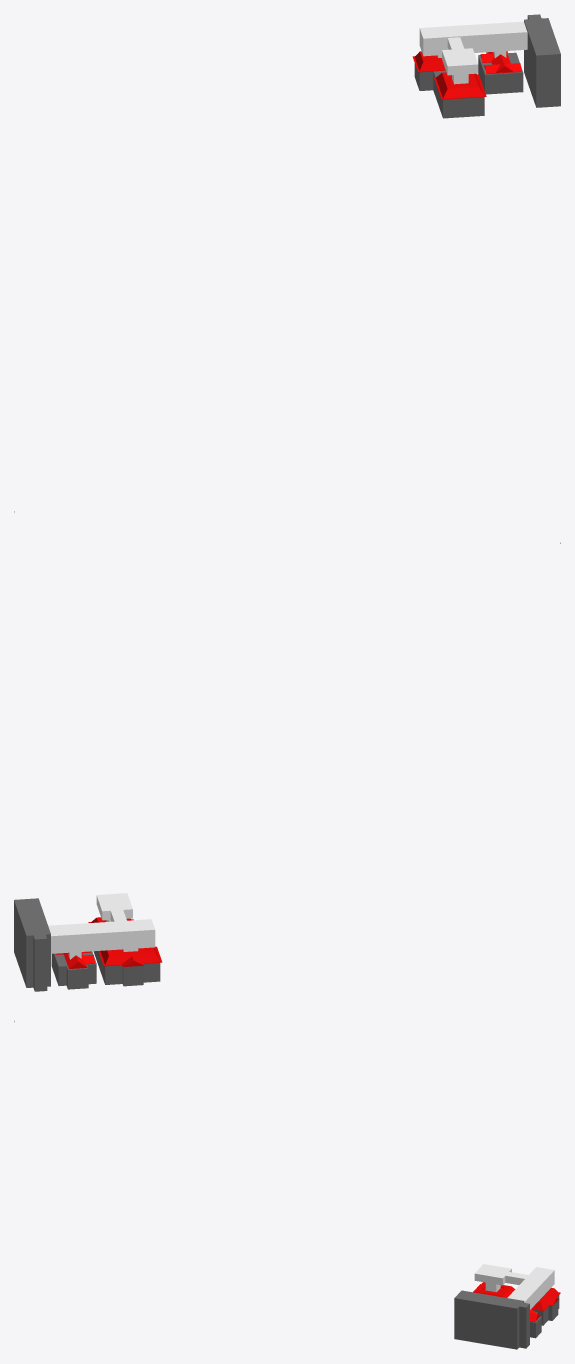
Rendered from Isometric.fbx.
3 renders of one model, top to bottom at view 1: azimuth 30°, elevation 25°; view 2: azimuth 210°, elevation 25°; view 3: azimuth 270°, elevation 25°, orthographic. The views are drawn at different scales.
Visible parts, largest first — view 1: Group22, Group18, Group13, Group6, Group17, Group16; view 2: Group18, Group22, Group13, Group6, Group17, Group15; view 3: Group22, Group18, Group17.
Part boxes in pixels (<box>): Group22: <box>524,14,560,107</box>; Group18: <box>419,21,527,56</box>; Group13: <box>414,63,484,118</box>; Group6: <box>478,51,523,94</box>; Group17: <box>442,37,478,75</box>; Group16: <box>434,72,486,99</box>; Group18: <box>48,919,155,953</box>; Group22: <box>14,898,50,991</box>; Group13: <box>93,951,160,986</box>; Group6: <box>51,951,96,989</box>; Group17: <box>96,893,132,921</box>; Group15: <box>98,946,162,966</box>; Group22: <box>454,1290,529,1349</box>; Group18: <box>507,1267,554,1309</box>; Group17: <box>474,1264,528,1285</box>.
Size of the model in its own units: 54767 by 3200 by 38669.
